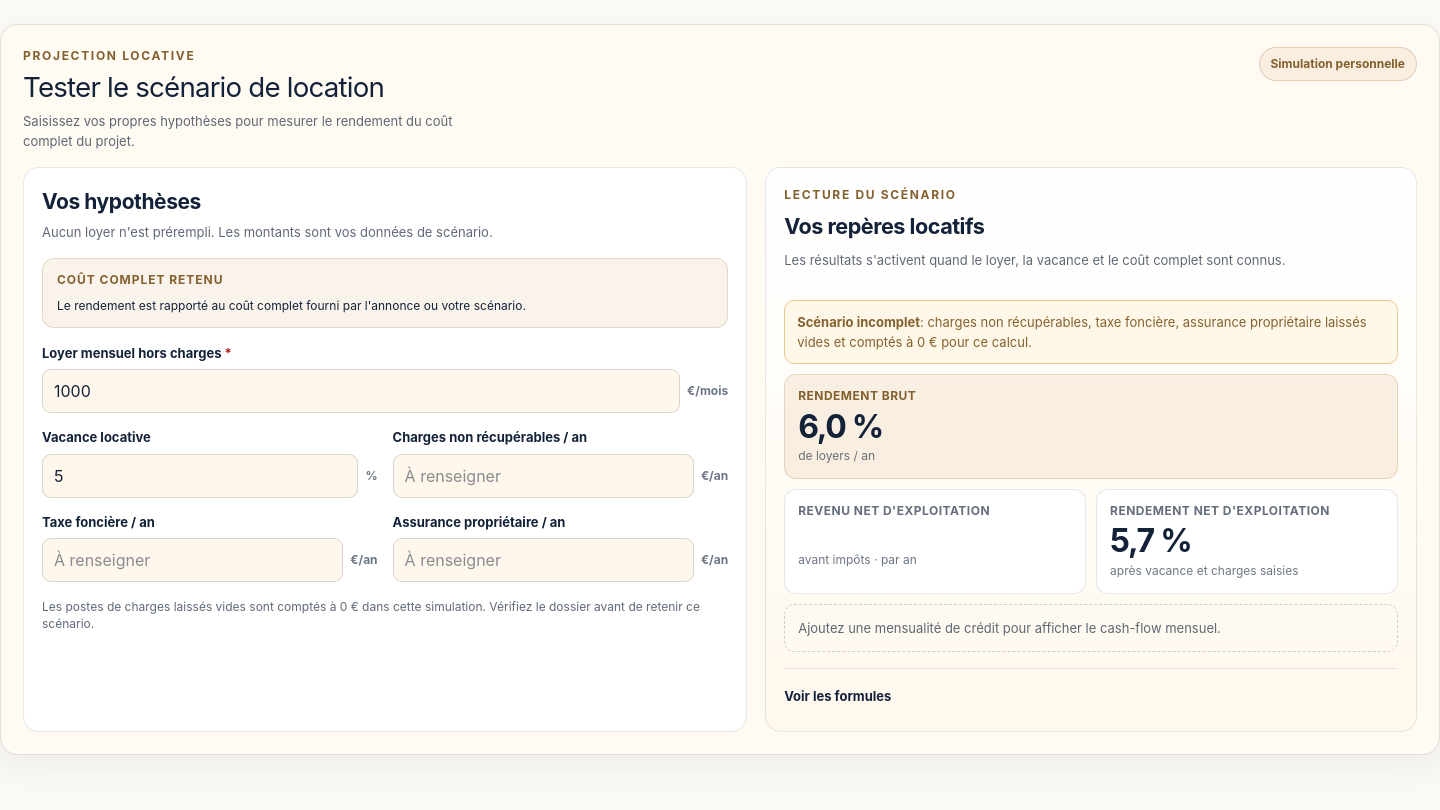
Test: ListingRental › does not turn a negative expense into a silent zero
Type "-600" into the number field labelled "Charges non récupérables / an".
click(543, 476); type("-600")  # box [393,454,694,498]
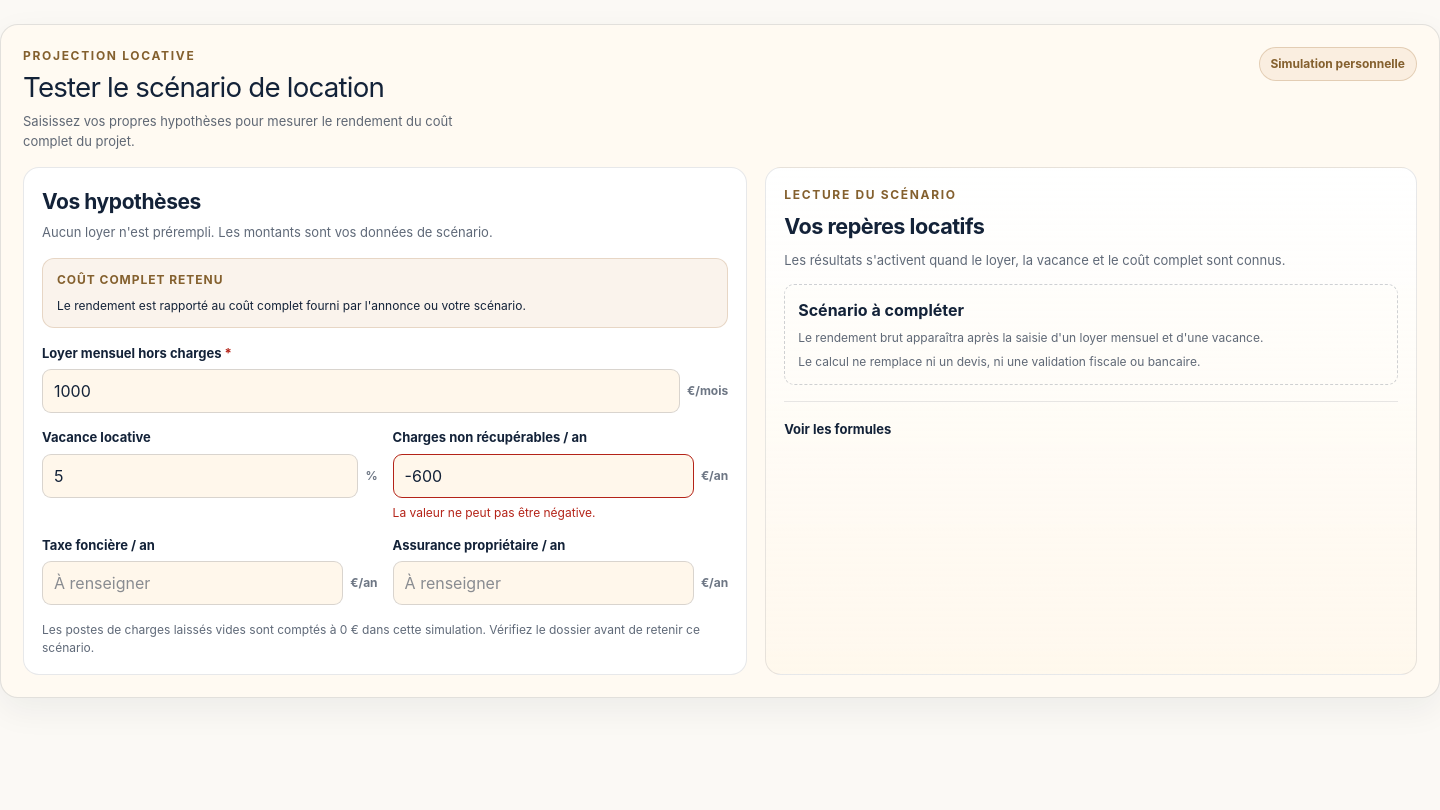
Now the message "La valeur ne peut pas être négative." is shown, box [393,504,596,520]
Now the text "Scénario à compléter" is shown, box [798,300,964,320]
